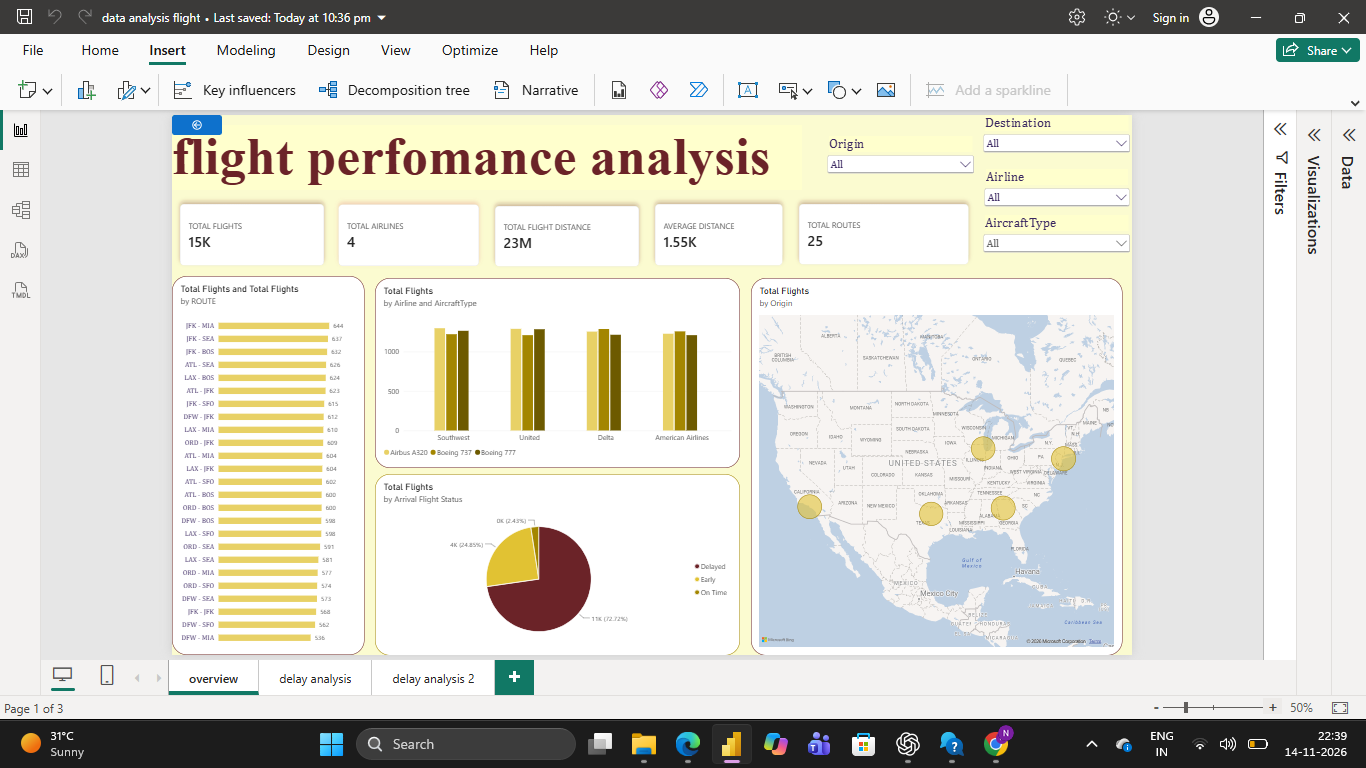

This screenshot's page, from the dashboard's own definition file:
{"tool":"powerbi","page":{"name":"overview","canvas":[1920,1080],"ordinal":0},"visuals":[{"type":"barChart","fields":{"Category":["flight_delays1.ROUTE"],"Y":["flight_delays1.Total Flights"]},"box":[0,322.5,385,757.5],"z":0},{"type":"pieChart","fields":{"Category":["flight_delays1.Arrival Flight Status"],"Y":["flight_delays1.Total Flights"]},"box":[405,717.5,730,362.5],"z":1000},{"type":"textbox","title":"flight analysis","box":[0,20,1260,130],"z":2000},{"type":"slicer","fields":{"Values":["flight_delays1.AircraftType"]},"box":[1617.5,200,302.5,82.5],"z":3000},{"type":"slicer","fields":{"Values":["flight_delays1.Airline"]},"box":[1620,107.5,300,82.5],"z":4000},{"type":"slicer","fields":{"Values":["flight_delays1.Origin"]},"box":[1305,42.5,302.5,87.5],"z":5000},{"type":"slicer","fields":{"Values":["flight_delays1.Destination"]},"box":[1617.5,0,302.5,80],"z":6000},{"type":"cardVisual","fields":{"Data":["flight_delays1.Total Airlines"]},"box":[315,162.5,315,157],"z":7000},{"type":"cardVisual","fields":{"Data":["Divide(flight_delays1.Total Flight Distance, ScopedEval(flight_delays1.Total Flight Distance, []))"]},"box":[630,165,320,153],"z":8000},{"type":"cardVisual","fields":{"Data":["flight_delays1.Total Routes"]},"box":[1237.5,162.5,371,153],"z":9000},{"type":"cardVisual","fields":{"Data":["Avg(flight_delays1.Distance)"]},"box":[950,162.5,287.5,155],"z":10000},{"type":"cardVisual","fields":{"Data":["flight_delays1.Total Flights"]},"box":[0,162.5,320,155],"z":11000},{"type":"clusteredColumnChart","fields":{"Category":["flight_delays1.Airline"],"Series":["flight_delays1.AircraftType"],"Y":["flight_delays1.Total Flights"]},"box":[405,325,730,380],"z":12000},{"type":"map","fields":{"Category":["flight_delays1.Origin","flight_delays1.Destination"],"Size":["flight_delays1.Total Flights"]},"box":[1157.5,325,742.5,755],"z":13000},{"type":"actionButton","box":[0,0,100,40],"z":14000}]}

Visuals, with their boxes on the page's 1920x1080 design canvas (x1, y1, x2, y2). These are canvas units, not pixel positions in the 1366x768 screenshot, which may show the page scaled, cropped or inside an application window:
barChart - flight_delays1.ROUTE x flight_delays1.Total Flights: {"left": 0, "top": 322, "right": 385, "bottom": 1080}
pieChart - flight_delays1.Arrival Flight Status x flight_delays1.Total Flights: {"left": 405, "top": 718, "right": 1135, "bottom": 1080}
"flight analysis" textbox: {"left": 0, "top": 20, "right": 1260, "bottom": 150}
slicer - flight_delays1.AircraftType: {"left": 1618, "top": 200, "right": 1920, "bottom": 282}
slicer - flight_delays1.Airline: {"left": 1620, "top": 108, "right": 1920, "bottom": 190}
slicer - flight_delays1.Origin: {"left": 1305, "top": 42, "right": 1608, "bottom": 130}
slicer - flight_delays1.Destination: {"left": 1618, "top": 0, "right": 1920, "bottom": 80}
cardVisual - flight_delays1.Total Airlines: {"left": 315, "top": 162, "right": 630, "bottom": 320}
cardVisual - Divide(flight_delays1.Total Flight Distance, ScopedEval(flight_delays1.Total Flight Distance, [])): {"left": 630, "top": 165, "right": 950, "bottom": 318}
cardVisual - flight_delays1.Total Routes: {"left": 1238, "top": 162, "right": 1608, "bottom": 316}
cardVisual - Avg(flight_delays1.Distance): {"left": 950, "top": 162, "right": 1238, "bottom": 318}
cardVisual - flight_delays1.Total Flights: {"left": 0, "top": 162, "right": 320, "bottom": 318}
clusteredColumnChart - flight_delays1.Airline x flight_delays1.AircraftType: {"left": 405, "top": 325, "right": 1135, "bottom": 705}
map - flight_delays1.Origin x flight_delays1.Destination: {"left": 1158, "top": 325, "right": 1900, "bottom": 1080}
actionButton: {"left": 0, "top": 0, "right": 100, "bottom": 40}
